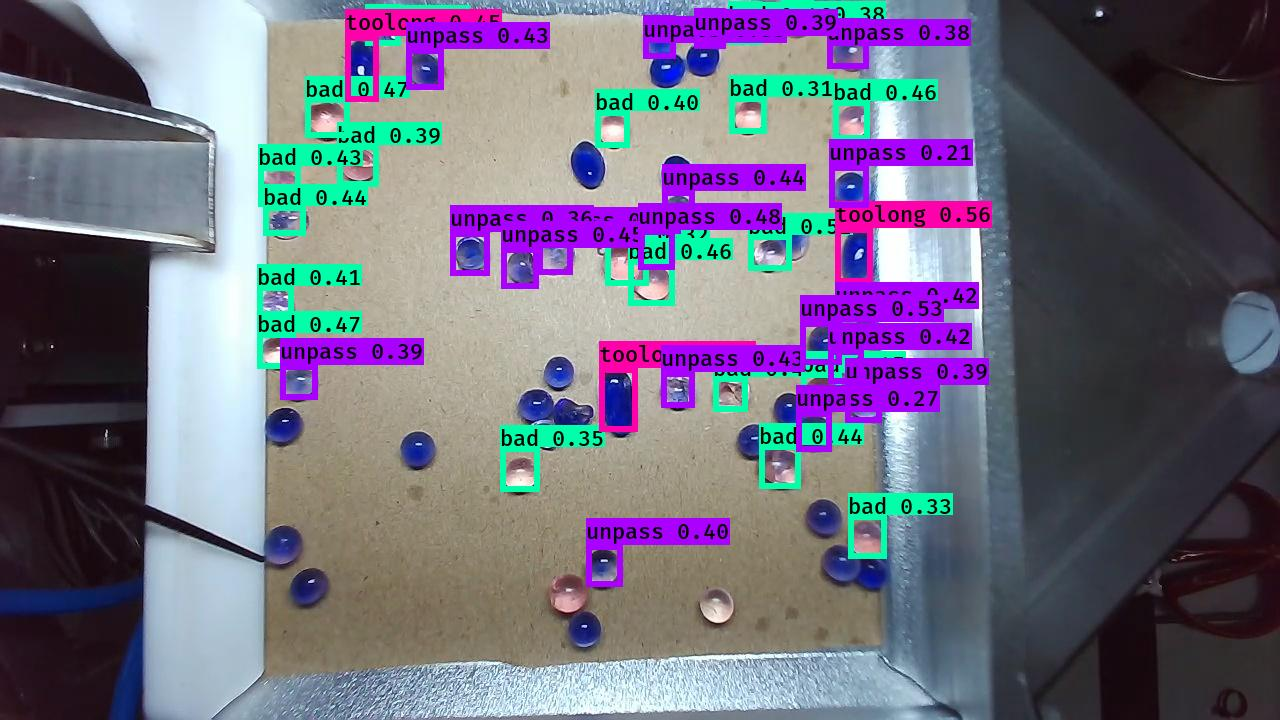bad: (304, 98, 355, 142), (757, 447, 808, 489), (544, 572, 590, 616), (846, 518, 892, 559), (259, 169, 306, 209), (603, 242, 645, 285), (695, 585, 736, 629), (832, 99, 872, 142), (727, 2, 767, 44), (731, 95, 767, 140), (632, 263, 673, 302), (328, 150, 369, 188), (365, 10, 404, 49), (803, 374, 844, 411), (269, 205, 313, 238), (501, 452, 538, 491), (258, 288, 295, 326), (780, 1, 816, 39), (715, 379, 751, 414), (260, 334, 295, 367), (529, 419, 564, 452), (589, 111, 622, 145), (752, 234, 783, 269)
defact: (595, 215, 627, 260)
pass: (551, 391, 596, 443), (570, 140, 609, 190), (261, 526, 304, 569), (263, 408, 306, 449), (287, 568, 330, 609), (818, 542, 859, 585), (515, 391, 554, 435), (400, 432, 441, 473), (806, 500, 845, 539), (566, 609, 604, 649), (734, 423, 772, 462), (657, 155, 695, 194), (649, 50, 685, 89), (687, 39, 722, 78), (536, 348, 571, 387), (773, 390, 807, 429)
toolong: (599, 367, 645, 439), (342, 40, 381, 103), (839, 227, 875, 289)
unpass: (831, 22, 875, 71), (582, 546, 626, 589), (451, 232, 491, 278), (802, 324, 844, 367), (498, 249, 540, 291), (769, 218, 810, 259), (277, 364, 319, 401), (831, 170, 871, 208), (408, 50, 445, 90), (537, 236, 576, 273), (660, 195, 698, 232), (658, 374, 693, 413), (826, 352, 863, 387), (798, 416, 835, 450), (846, 388, 883, 422), (841, 310, 873, 349), (695, 12, 730, 47), (648, 228, 681, 265), (645, 17, 676, 56)
